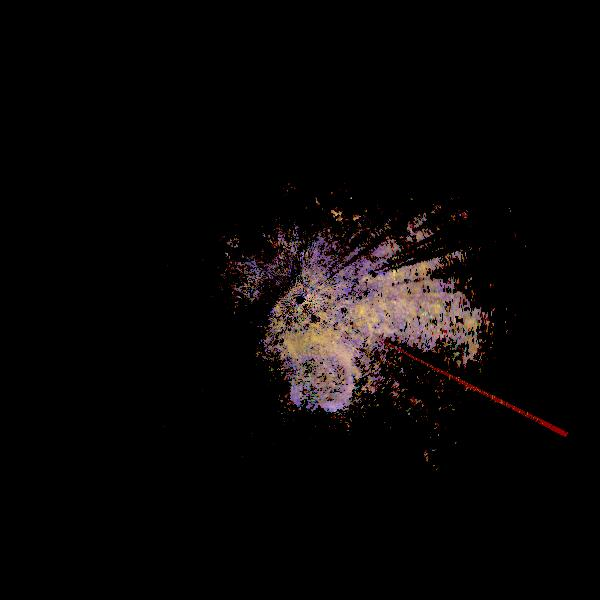roost: (244, 312, 370, 438)
